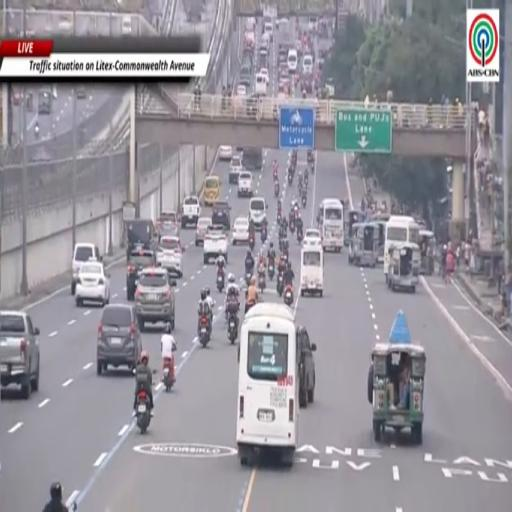bus: (237, 303, 299, 465), (384, 216, 420, 282), (320, 199, 344, 251), (242, 148, 263, 171)
car: (0, 311, 40, 398), (97, 303, 142, 375), (135, 268, 176, 330), (75, 259, 110, 307), (71, 243, 101, 295), (126, 248, 156, 300), (297, 327, 316, 407), (156, 236, 184, 277), (126, 219, 157, 256), (204, 224, 227, 264), (181, 196, 201, 228), (156, 212, 180, 237), (249, 197, 267, 230), (212, 201, 230, 231), (195, 217, 211, 246), (232, 217, 248, 245), (237, 171, 253, 197), (229, 155, 242, 184), (303, 229, 321, 245), (219, 146, 233, 161), (259, 68, 269, 84), (76, 85, 86, 99), (236, 85, 247, 97)
jeepney: (368, 312, 425, 444), (388, 243, 420, 293), (348, 222, 378, 267), (370, 213, 389, 263), (345, 210, 365, 246), (420, 230, 435, 275), (376, 220, 386, 264)
motorcycle: (136, 391, 151, 434), (162, 362, 174, 392), (199, 315, 210, 347), (228, 312, 238, 344), (284, 285, 293, 307), (258, 272, 266, 293), (277, 272, 284, 296), (217, 270, 224, 292), (245, 269, 252, 286), (268, 261, 274, 280), (245, 301, 254, 313), (261, 226, 267, 243), (249, 233, 255, 250), (282, 247, 288, 263), (303, 173, 309, 188), (297, 182, 303, 196), (289, 219, 295, 233), (297, 229, 303, 243), (274, 181, 279, 197), (276, 210, 282, 223), (273, 167, 278, 180), (301, 196, 306, 207), (288, 172, 292, 185), (310, 163, 314, 173)
